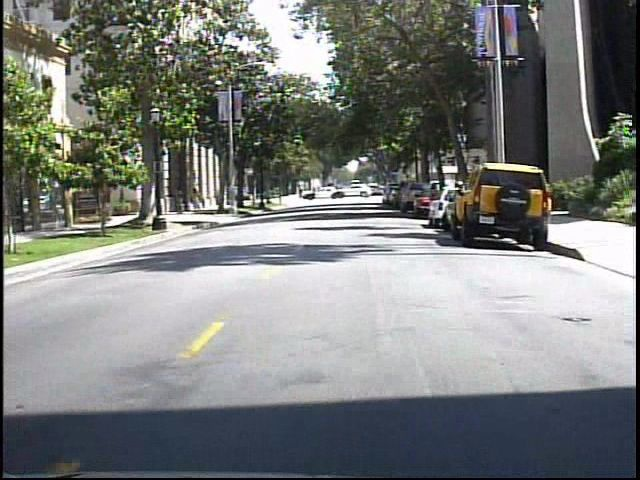person: (191, 186, 211, 218), (171, 184, 188, 218), (361, 180, 375, 203)
